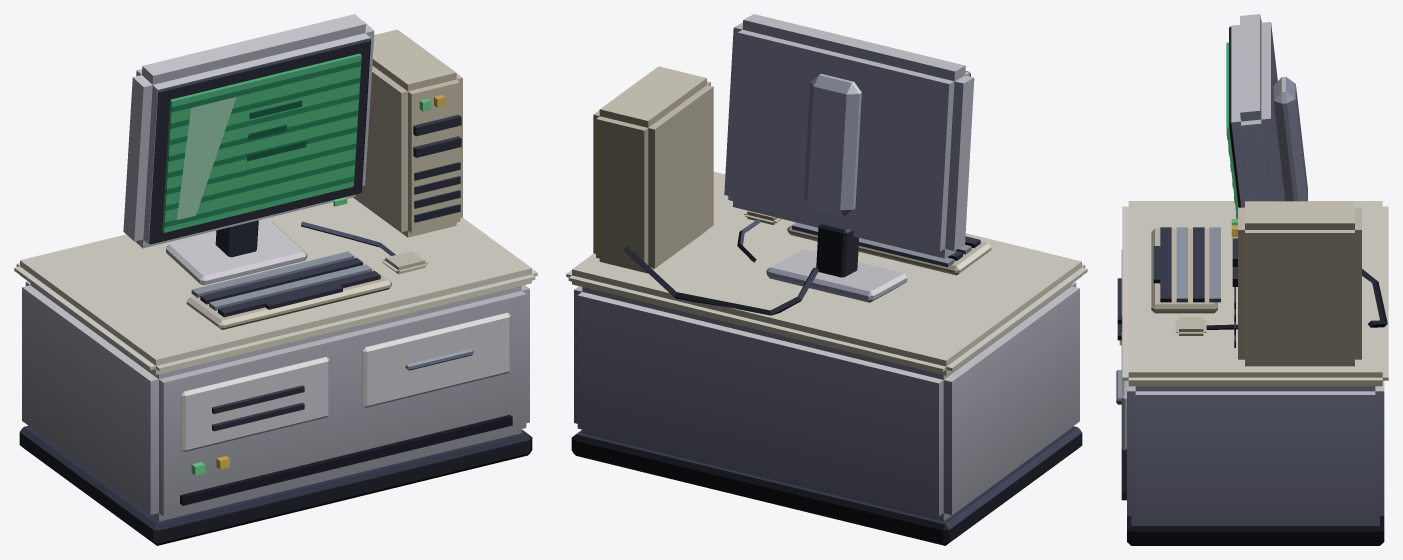
The picture shows the model from 3 angles, left to right: view 1: azimuth 30°, elevation 25°; view 2: azimuth 150°, elevation 25°; view 3: azimuth 270°, elevation 25°; orthographic projection. The views are drawn at different scales.
Visible parts, largest first — view 1: pc; view 2: pc; view 3: pc.
Boxes of the visible parts, <box> form: pc: <box>14,14,537,545</box>; pc: <box>566,14,1087,545</box>; pc: <box>1116,14,1388,545</box>.
Size of the model in its own units: 0.94 by 0.9647 by 0.614.
